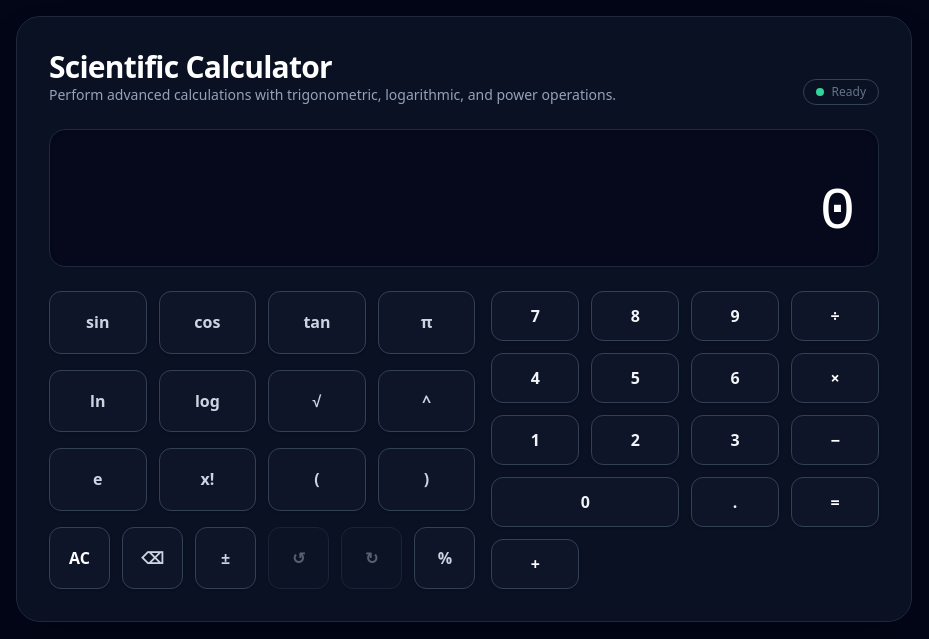
Test: Calculator E2E › computes factorial results
Step 1. Click the button "5" → (635, 378), box [591, 353, 679, 403]
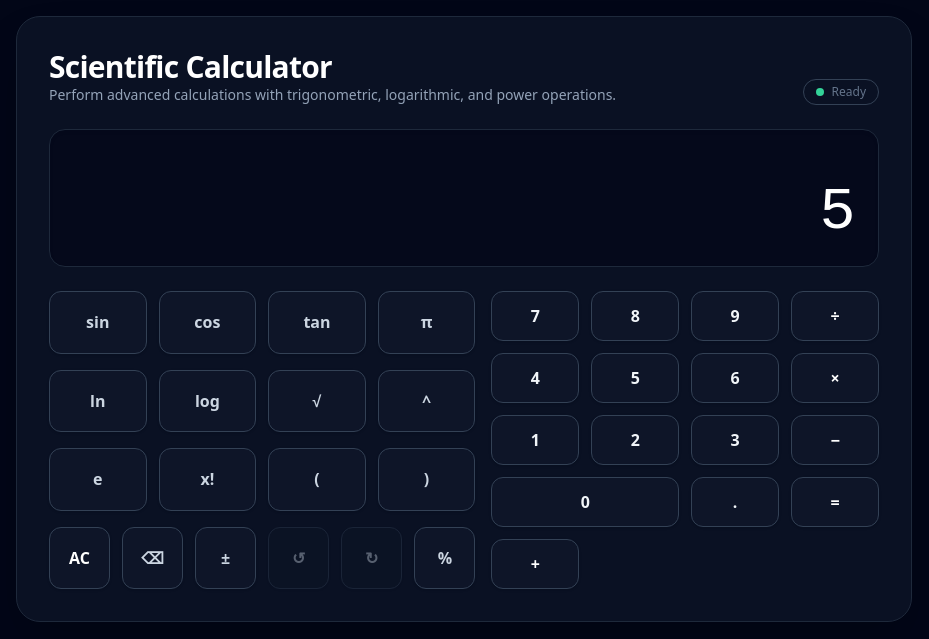
Step 2. Click the button "x!" → (208, 480), box [159, 448, 257, 511]
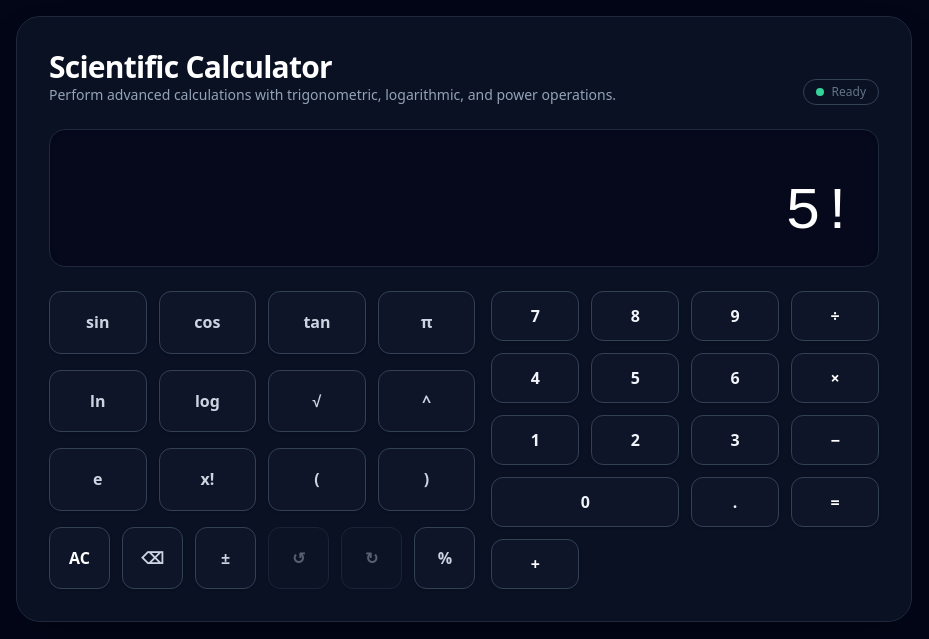
Step 3. Click the button "=" → (835, 502), box [791, 477, 879, 527]
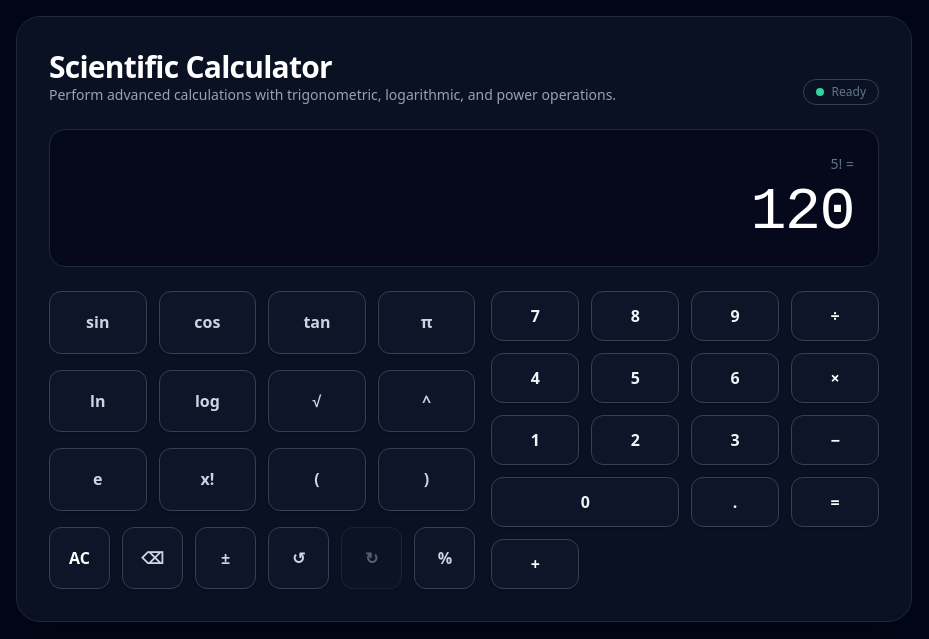
Expected: the text "120" is shown, [750, 178, 854, 246]
